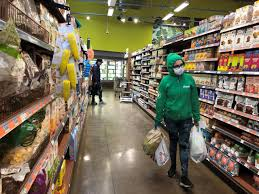Good: (90, 54, 209, 194)
